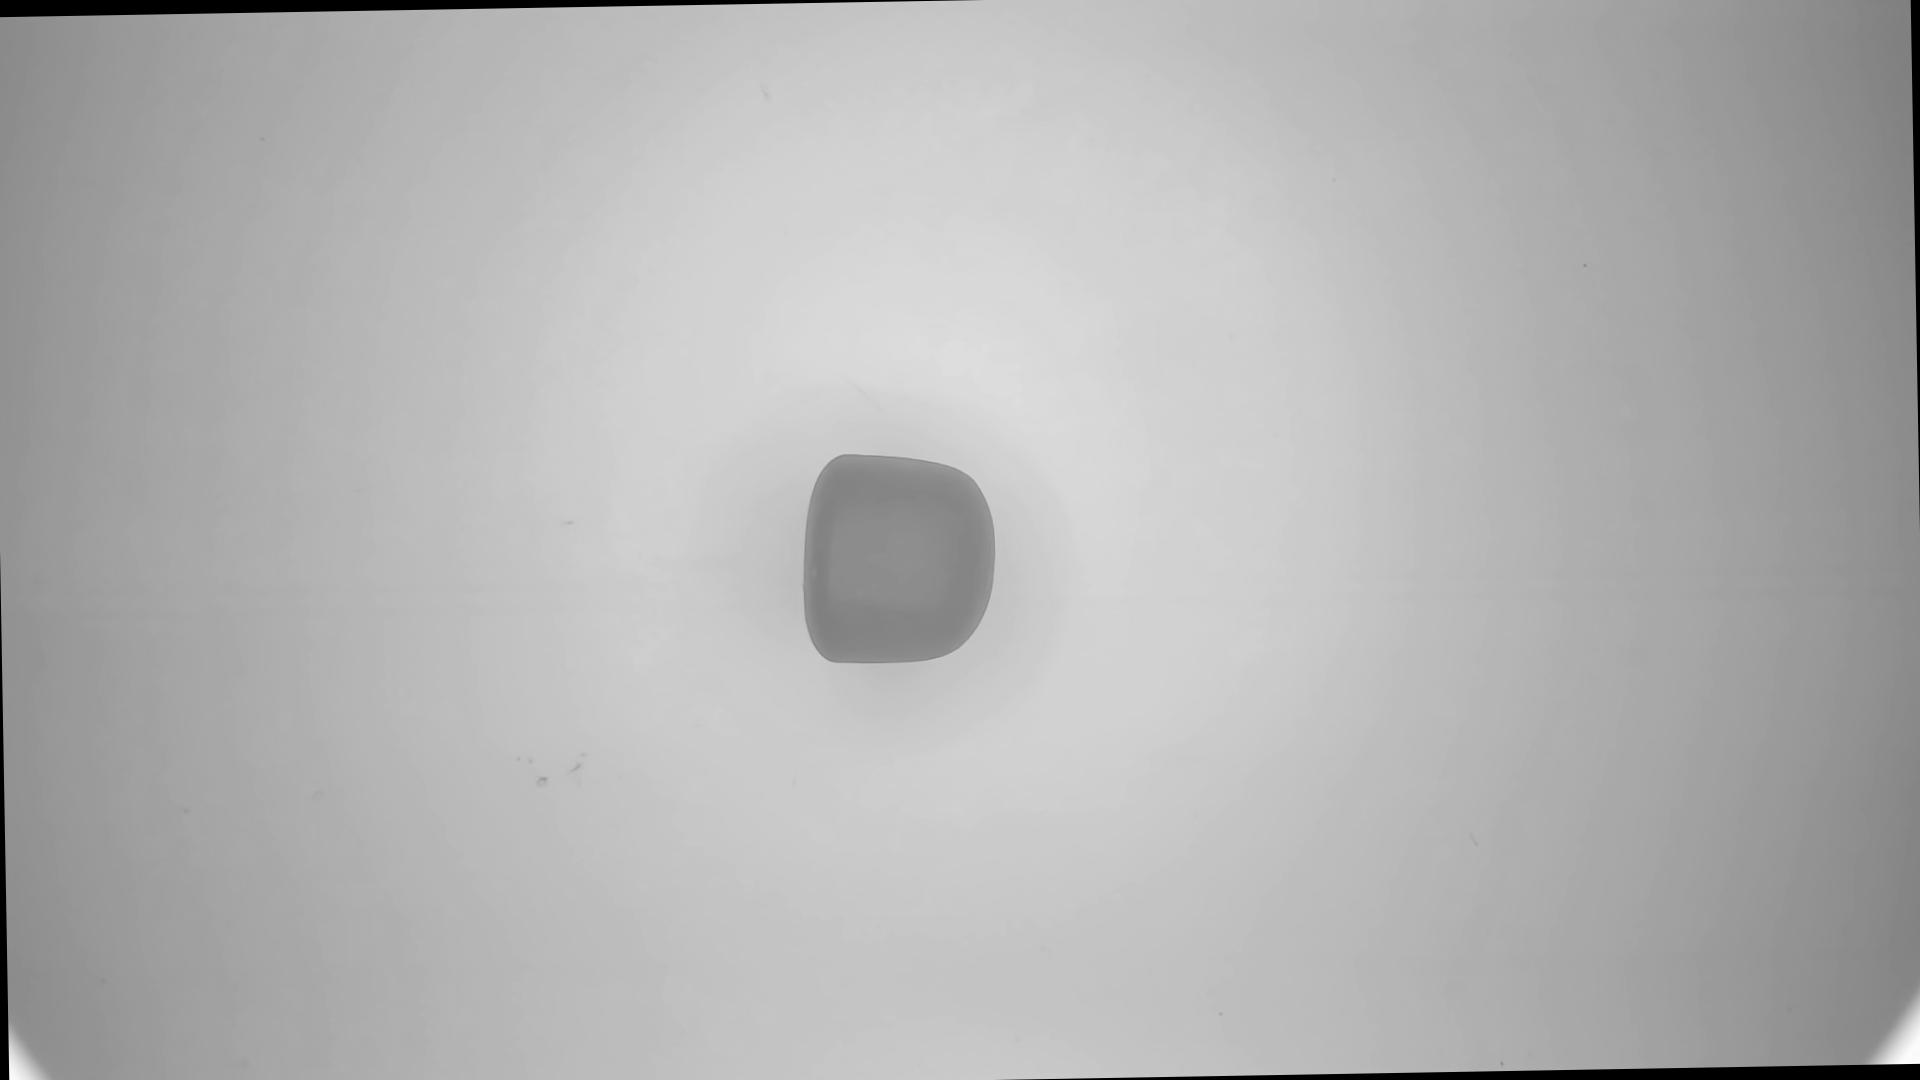normal: (799, 448, 1004, 667)
